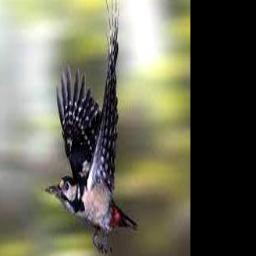Woodpecker: (45, 0, 138, 252)
